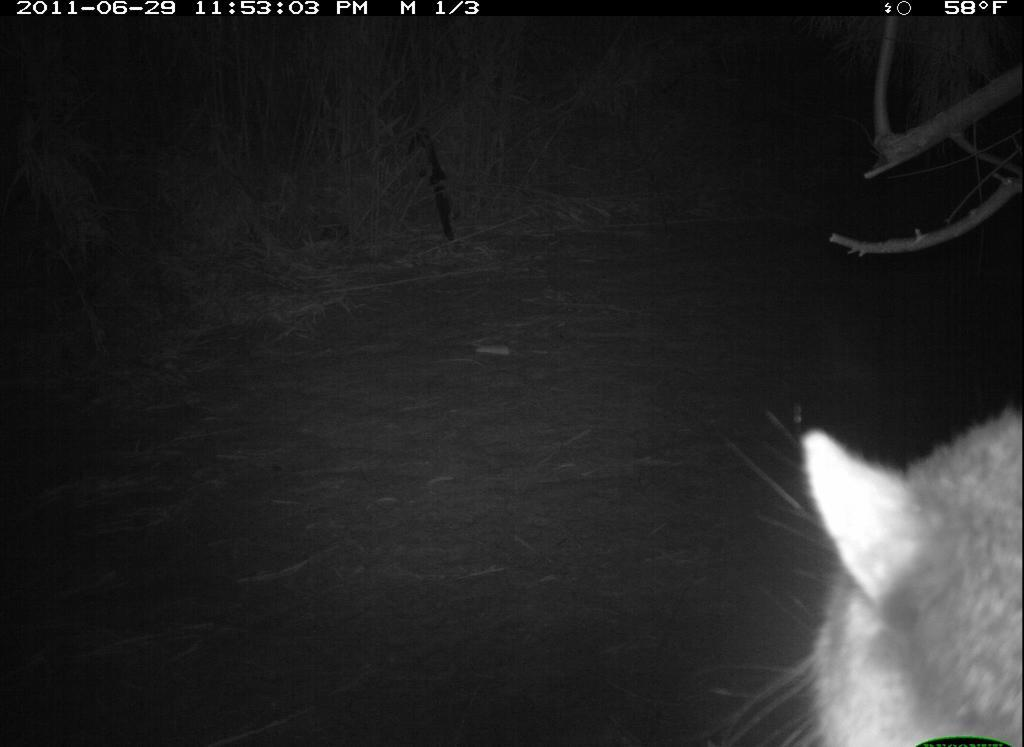raccoon: (743, 360, 1022, 744)
